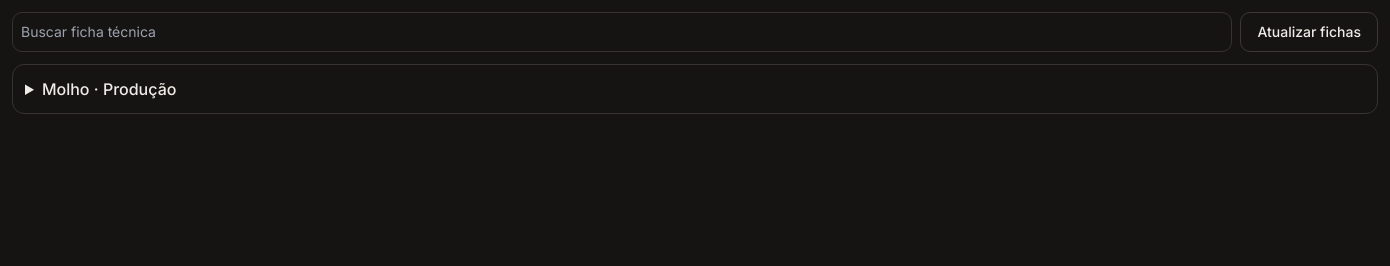
in-app recipe sheets › opens ingredients and yield without downloading a file
Step 1. Click the heading "Molho · Produção" → (109, 89), box [42, 79, 176, 99]
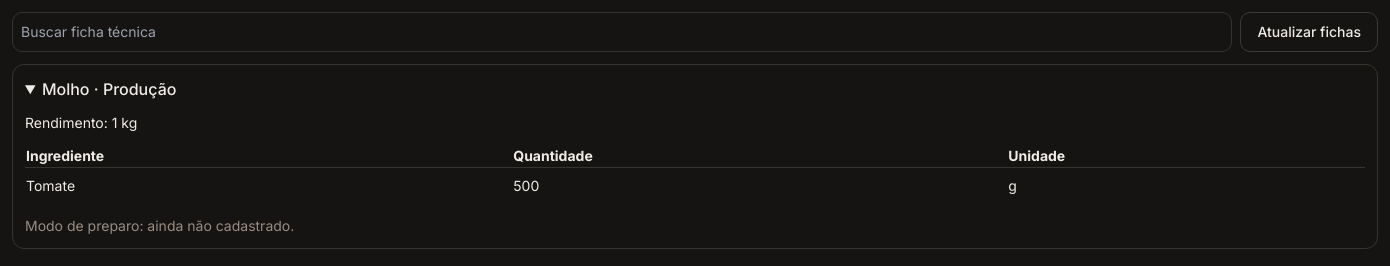
Check: the text "Tomate" is shown, box [25, 168, 512, 204]
Check: the text "Rendimento: 1 kg" is shown, box [25, 114, 137, 131]
